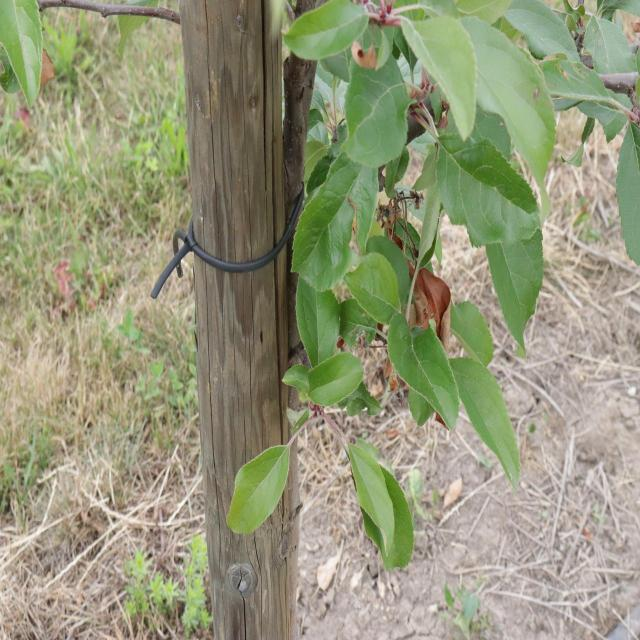-FireBlight-: (400, 259, 461, 367)
